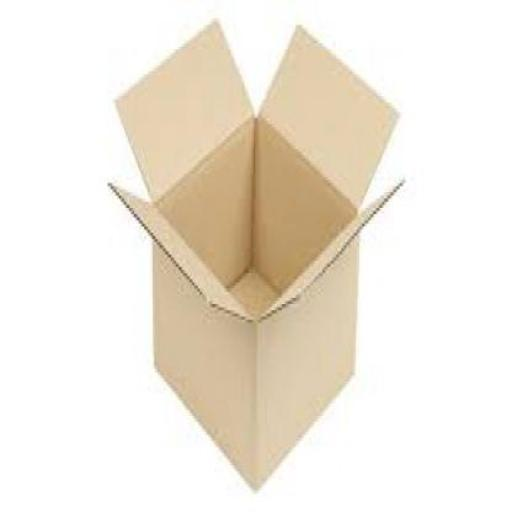cardboard: (106, 16, 405, 480)
